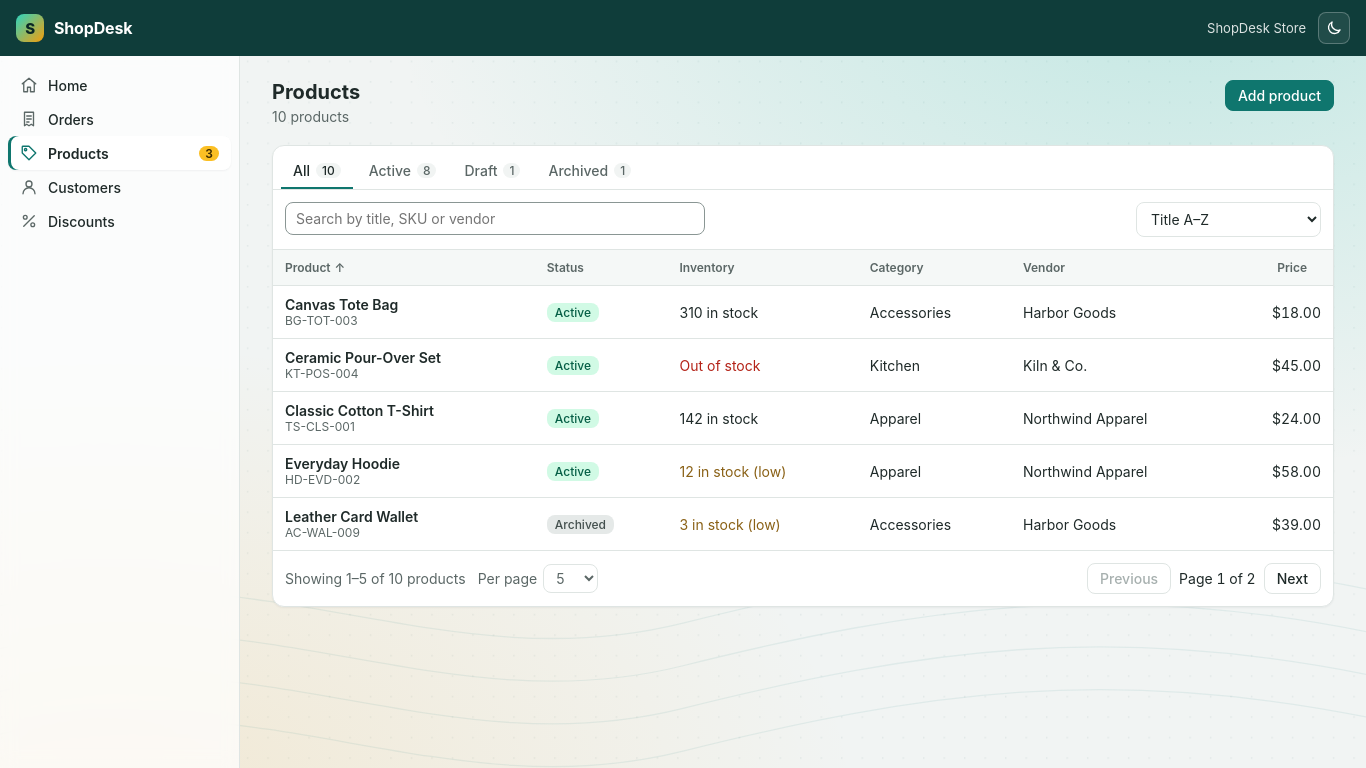
Test case: ProductsPage › search › shows an empty state and hides pagination when nothing matches
Step 1. Type "bicycle" into the search field named "Search products" → [495, 218], box [285,202,705,235]
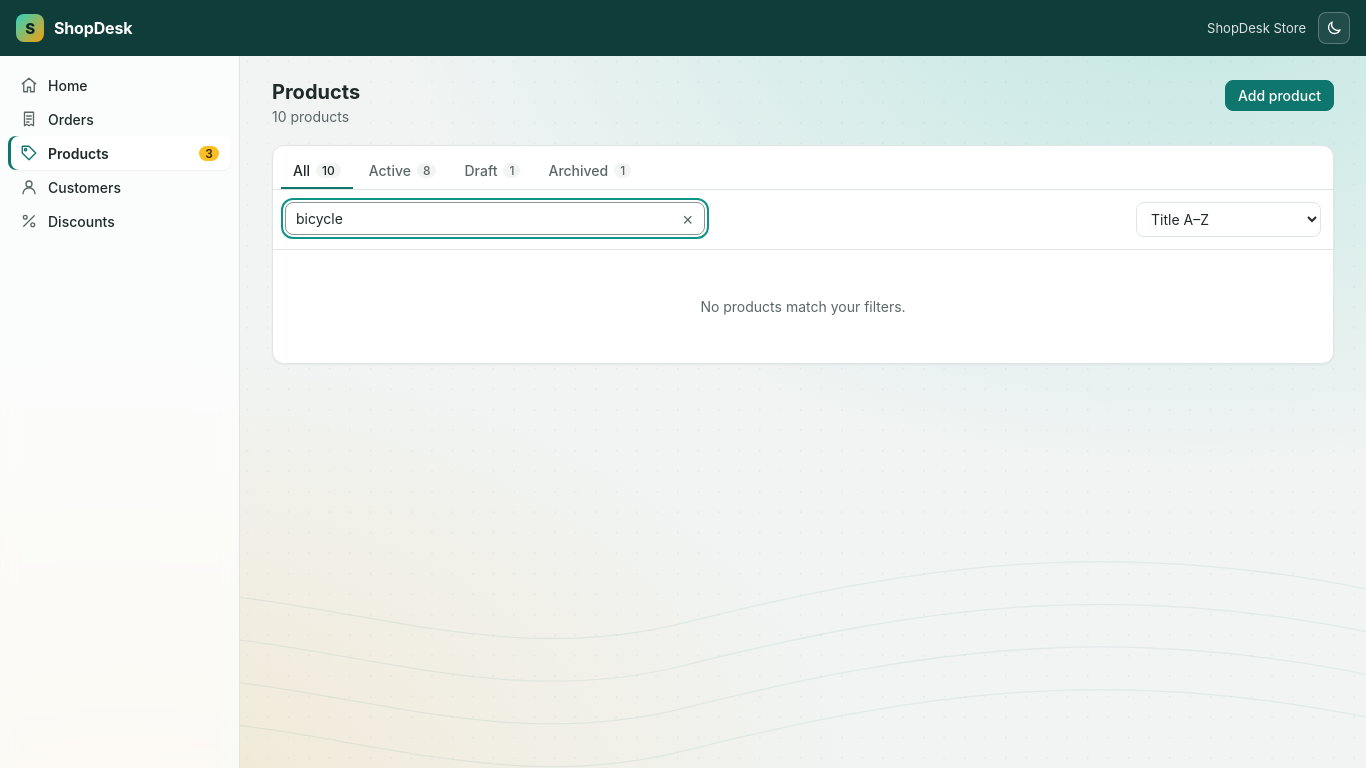
Now the text "No products match your filters." is shown, box [700,298,906,315]
Now the table is gone
Now the navigation bar "Pagination" is gone
